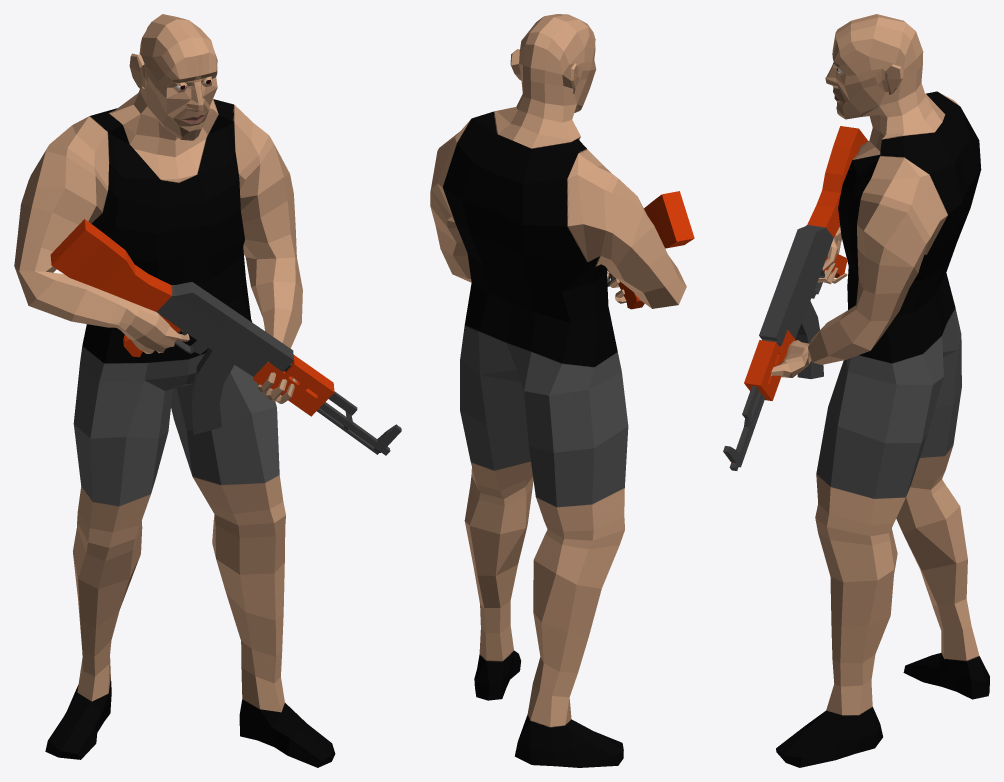
File: PlayerIdle(23).obj
3 renders of one model, left to right at view 1: azimuth 30°, elevation 25°; view 2: azimuth 150°, elevation 25°; view 3: azimuth 270°, elevation 25°, orthographic. The views are drawn at different scales.
Parts seen in each view (by area): view 1: Plane002, Object001; view 2: Plane002, Object001; view 3: Plane002, Object001.
Part boxes in pixels (left/top/right/bottom): Plane002: left=14, top=14, right=335, bottom=767; Object001: left=50, top=219, right=401, bottom=455; Plane002: left=430, top=14, right=686, bottom=767; Object001: left=607, top=191, right=694, bottom=309; Plane002: left=770, top=14, right=989, bottom=767; Object001: left=723, top=126, right=868, bottom=470.
Bounding box in the file's own units: 748 × 1809 × 628.
